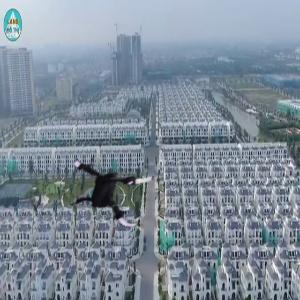drone: (57, 139, 158, 240)
